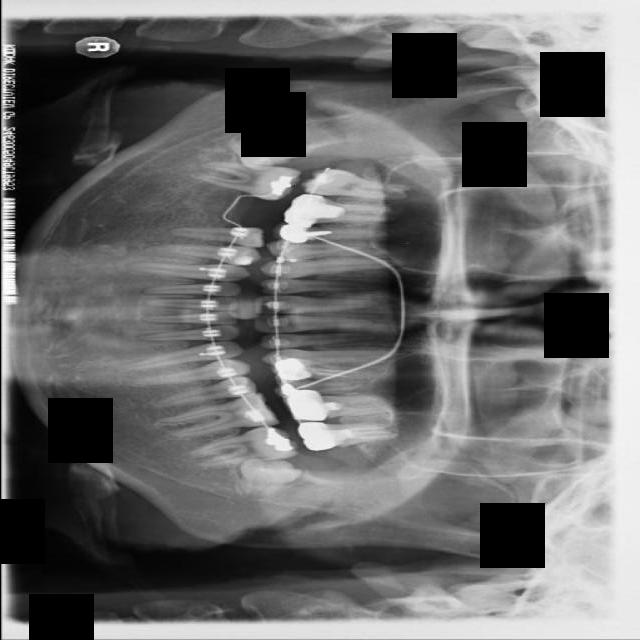52: (246, 420, 300, 464), (293, 418, 341, 453), (285, 389, 328, 424), (283, 194, 326, 226), (272, 355, 316, 383), (215, 245, 262, 266), (269, 221, 312, 243)
73: (327, 420, 404, 447), (307, 360, 382, 386), (13, 626, 22, 636)
BioHorizons Implant: (295, 420, 404, 452)
Biomet 3i Implant: (238, 457, 303, 499)
Blue Sky Bio Implant: (189, 422, 299, 470)
Caries: (298, 166, 420, 202)
Implant: (185, 157, 304, 204)
Keystone Dental Implant: (222, 123, 302, 185)
